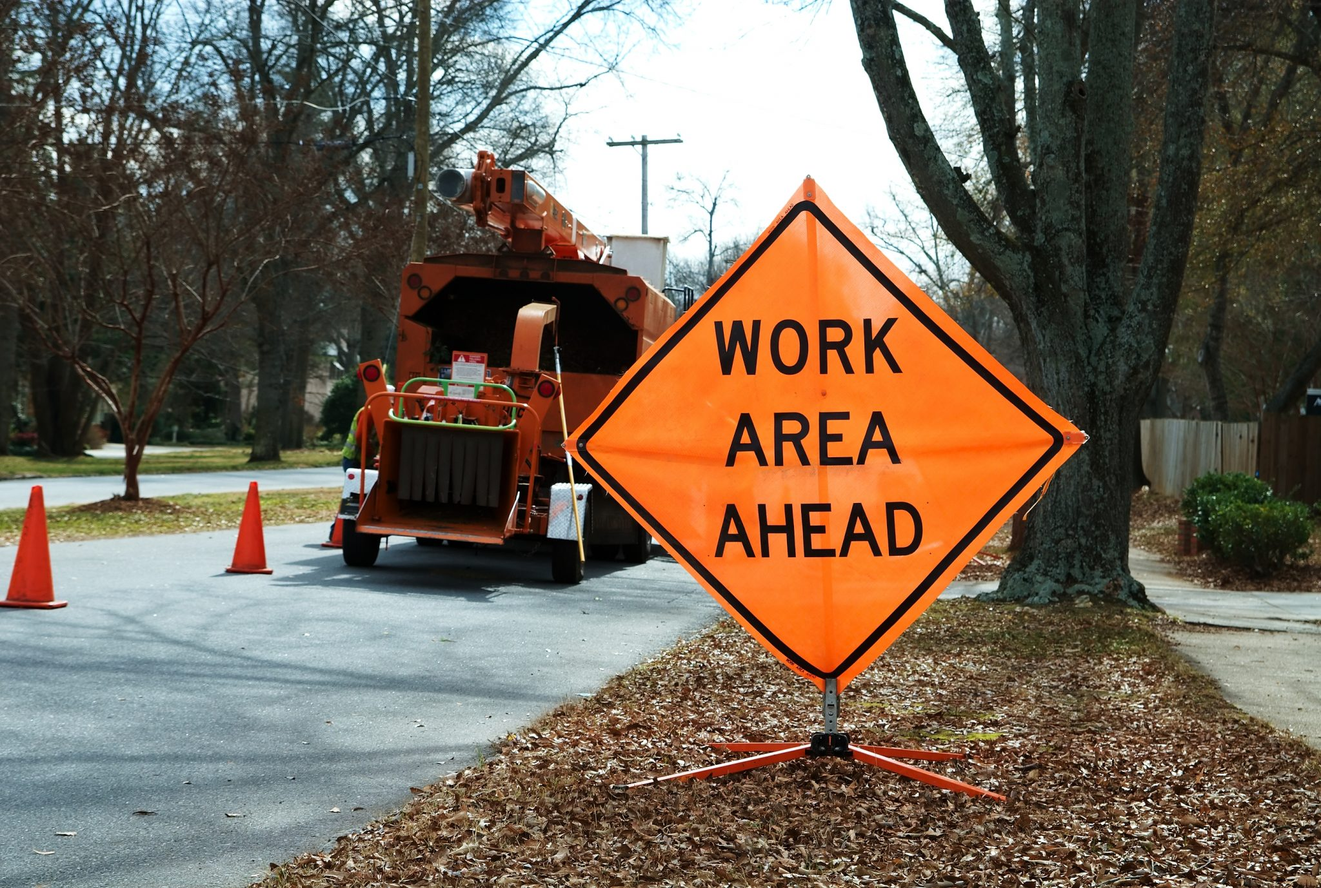Road_cone: (1, 486, 76, 619), (222, 473, 283, 577)
Road_workahead: (570, 183, 1095, 692)
Tree: (841, 1, 1186, 618), (1, 1, 186, 515)
